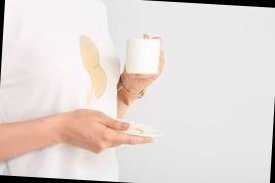coffee: (80, 40, 108, 98)
